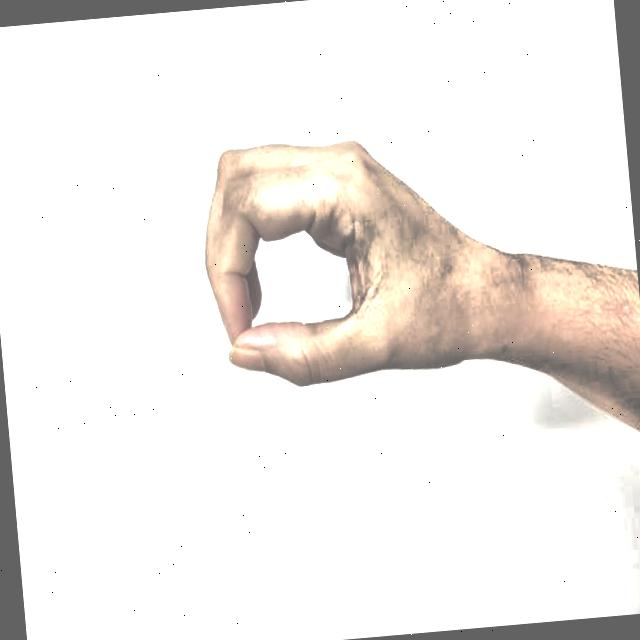O: (172, 99, 488, 427)
